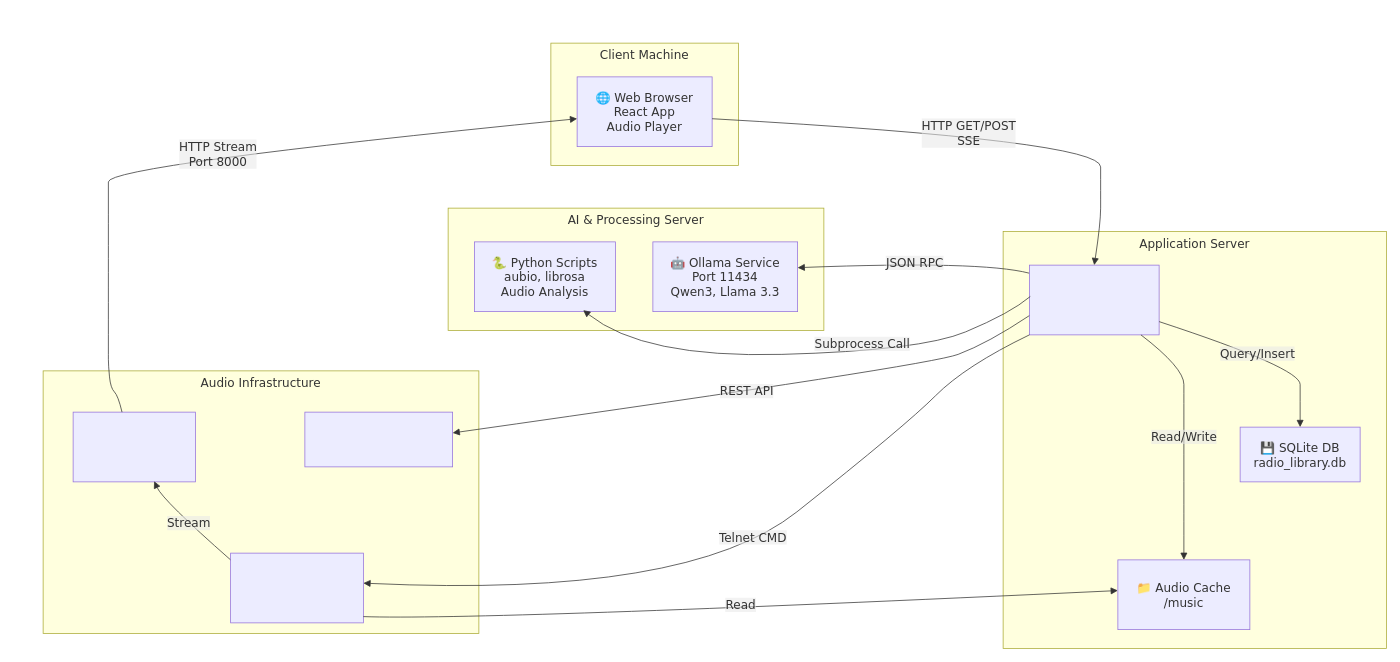
Some shapes in this 1400 by 662 pixel diagram are drawn without their labels. Each missing label, with the box of its shape:
🎤 Chatterbox TTS Voice Synthesis: (304, 411, 453, 467)
🎧 Liquidsoap Port 1234 Telnet Stream Engine: (230, 552, 363, 623)
📻 Icecast2 Port 8000 Stream Server: (72, 411, 195, 482)
🚀 Go Backend Port 8080 HTTP + SSE: (1029, 264, 1159, 335)
